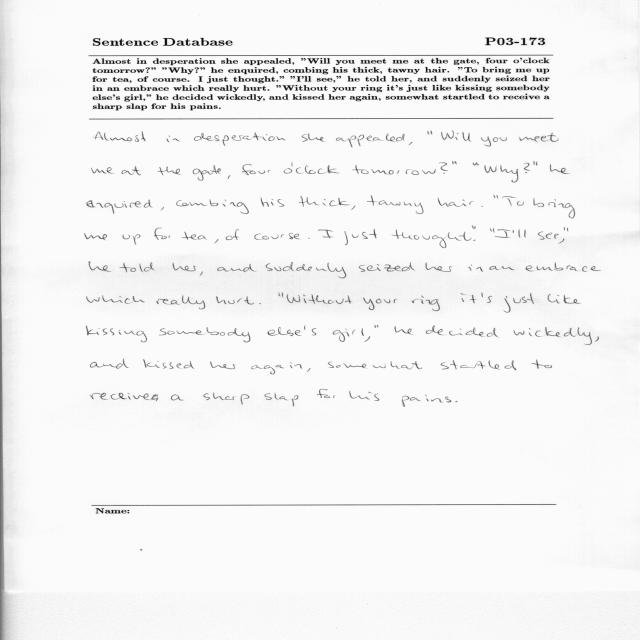word: (392, 230, 472, 249), (159, 327, 250, 343), (513, 327, 592, 345), (266, 262, 346, 278), (194, 132, 285, 146), (176, 199, 249, 214), (87, 326, 147, 343), (87, 199, 152, 214), (336, 134, 404, 148), (426, 325, 499, 338), (534, 198, 576, 219), (328, 361, 422, 370), (352, 165, 436, 175), (299, 196, 355, 210), (525, 262, 601, 272), (441, 360, 516, 370), (156, 296, 205, 310), (284, 162, 340, 174), (287, 294, 352, 304), (485, 165, 519, 183), (252, 362, 303, 374), (504, 293, 534, 313), (402, 395, 452, 407), (204, 392, 250, 405), (379, 201, 424, 214), (94, 131, 146, 142), (359, 262, 415, 272), (91, 393, 158, 401), (86, 295, 145, 304), (344, 229, 377, 245), (143, 359, 195, 369), (267, 326, 317, 336), (193, 165, 221, 181), (265, 394, 299, 407), (411, 296, 440, 311), (363, 298, 397, 310), (91, 359, 129, 369), (519, 133, 559, 142), (120, 263, 155, 273), (548, 294, 581, 304), (254, 233, 301, 240), (438, 198, 474, 207), (242, 164, 271, 175), (538, 232, 564, 244), (441, 131, 472, 141), (217, 264, 255, 272), (216, 297, 254, 305), (350, 391, 380, 401), (333, 329, 356, 342), (481, 136, 507, 147), (426, 262, 452, 272), (261, 197, 285, 207), (502, 196, 524, 206), (89, 262, 111, 272), (157, 167, 181, 176), (154, 227, 170, 240), (210, 362, 236, 370), (302, 133, 325, 142), (182, 232, 207, 240), (172, 263, 197, 271), (123, 234, 141, 245), (550, 164, 569, 174), (531, 360, 552, 369), (122, 166, 142, 175), (394, 326, 413, 335), (493, 228, 510, 238), (460, 293, 477, 303), (317, 389, 335, 398), (85, 233, 108, 240), (92, 167, 114, 174), (226, 229, 239, 240), (318, 230, 333, 239), (512, 229, 526, 238), (362, 328, 371, 342), (367, 195, 377, 206), (481, 293, 492, 303), (439, 162, 448, 174), (469, 265, 484, 272), (489, 266, 515, 270), (166, 136, 180, 143), (171, 395, 184, 401), (523, 163, 530, 173), (473, 226, 476, 241), (427, 131, 432, 135), (452, 161, 457, 165), (534, 161, 538, 166), (494, 195, 499, 199), (214, 239, 218, 244), (199, 271, 203, 276), (595, 337, 599, 342), (473, 163, 479, 166), (279, 293, 283, 297), (307, 368, 311, 372), (408, 142, 413, 145), (228, 175, 231, 179), (161, 207, 164, 211), (375, 325, 379, 328), (472, 226, 474, 229), (490, 228, 492, 231), (563, 227, 565, 230), (567, 228, 568, 232), (481, 206, 483, 207), (308, 238, 310, 239), (259, 303, 261, 304), (456, 401, 458, 402)
